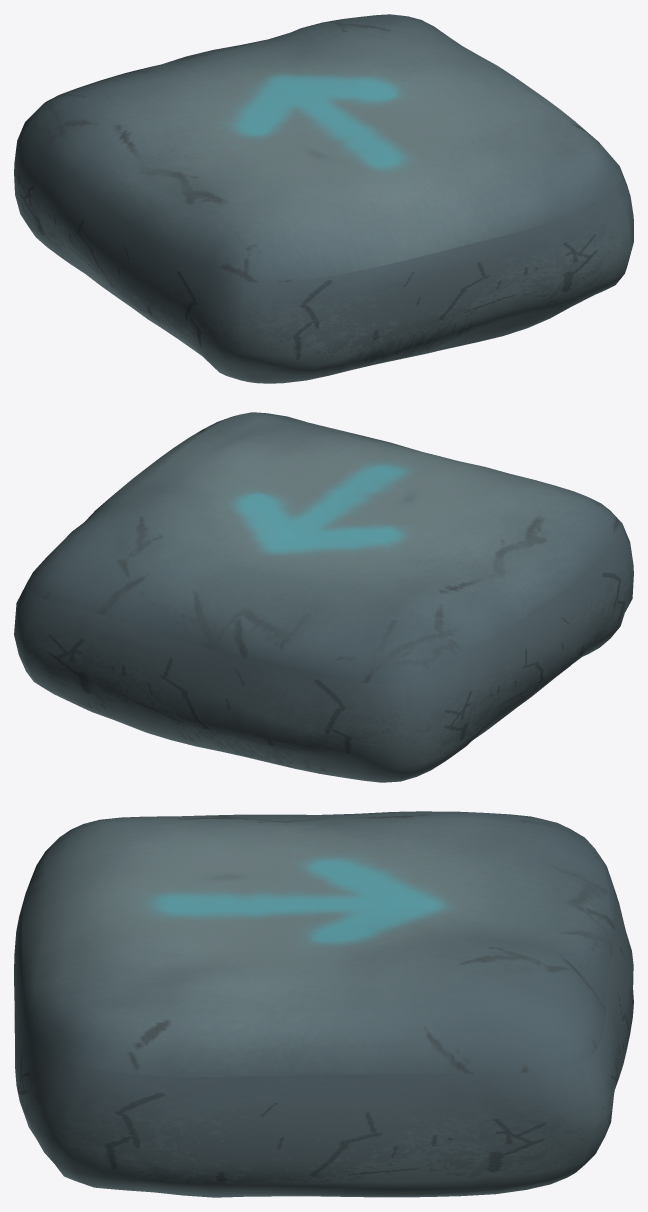
The model's file is directionBlock.fbx.
The picture shows the model from 3 angles, top to bottom: view 1: azimuth 30°, elevation 25°; view 2: azimuth 150°, elevation 25°; view 3: azimuth 270°, elevation 25°; orthographic projection. The views are drawn at different scales.
Parts seen in each view (by area): view 1: Cube; view 2: Cube; view 3: Cube.
Part boxes in pixels (x1=…): Cube: x1=14, y1=14, x2=633, y2=383; Cube: x1=14, y1=412, x2=633, y2=782; Cube: x1=14, y1=811, x2=633, y2=1197.
Bounding box in the file's own units: 208 × 85.74 × 209.
